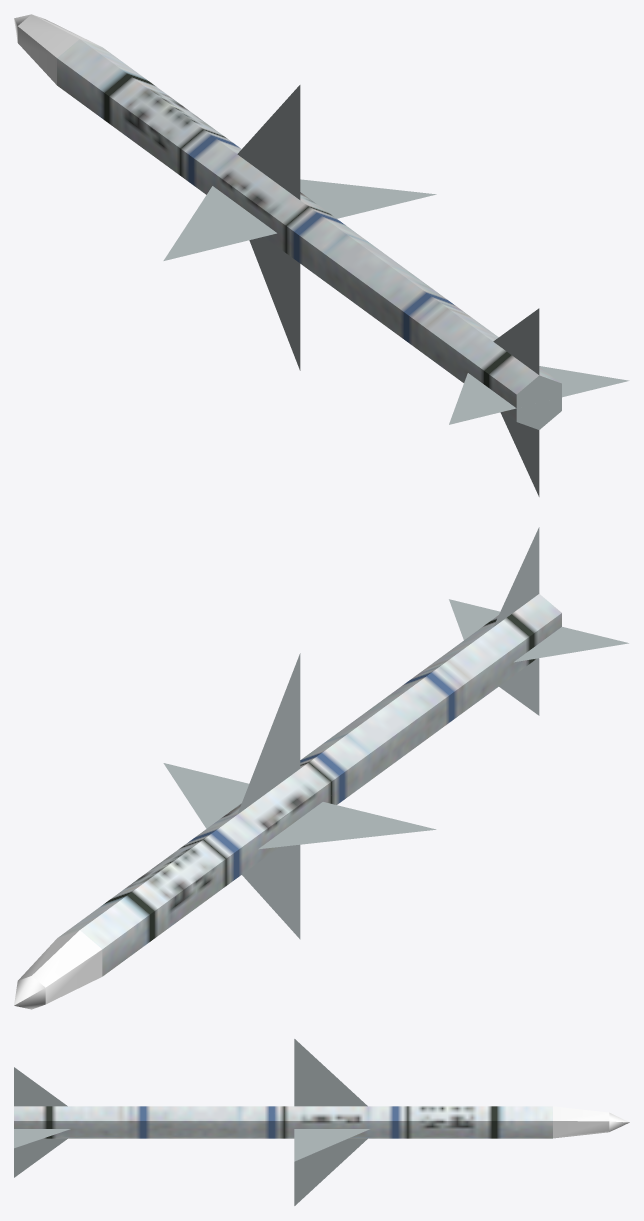
File: sparrow.fbx
3 renders of one model, top to bottom at view 1: azimuth 30°, elevation 25°; view 2: azimuth 150°, elevation 25°; view 3: azimuth 270°, elevation 25°, orthographic. The views are drawn at different scales.
Parts seen in each view (by area): view 1: sparrow; view 2: sparrow; view 3: sparrow.
Boxes of the visible parts, x1,y1,x2,y2 form: sparrow: (14,14,629,496); sparrow: (14,527,628,1009); sparrow: (14,1039,629,1205).
Size of the model in its own units: 28.68 by 28.68 by 95.2.
